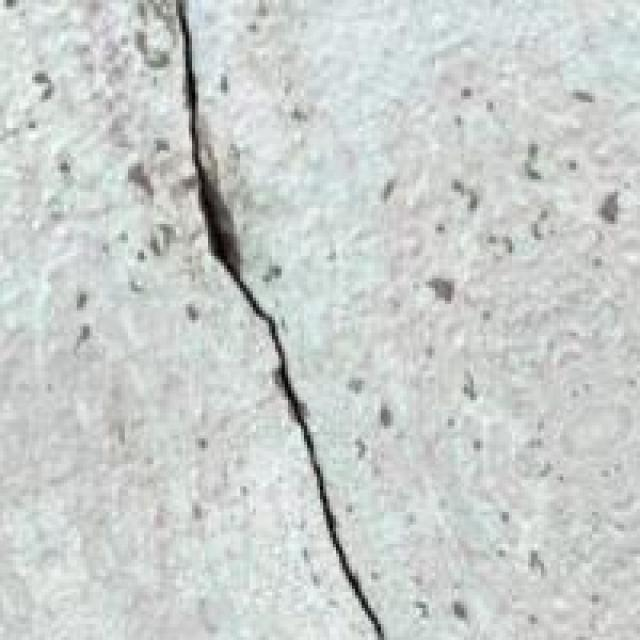Crack: (154, 0, 403, 637)
